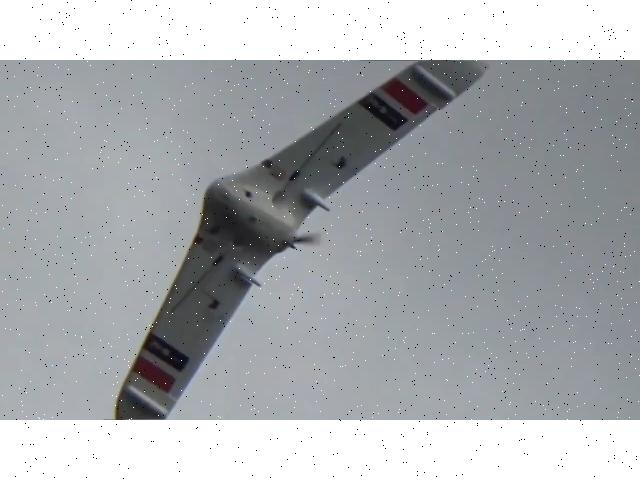Anti-Drone: (110, 60, 496, 420)
